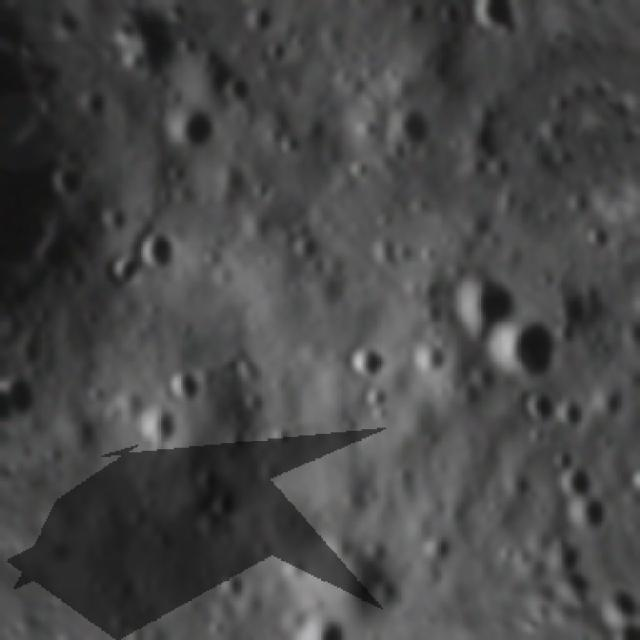crater: (438, 257, 531, 354), (476, 306, 570, 399), (374, 96, 446, 166), (159, 94, 227, 158), (457, 0, 534, 54), (132, 396, 192, 462), (40, 152, 98, 217), (400, 324, 458, 388), (130, 222, 188, 284), (95, 242, 151, 298), (547, 457, 605, 511), (339, 334, 395, 389), (547, 385, 599, 441), (1, 365, 47, 427), (281, 218, 333, 272), (68, 74, 120, 128), (565, 494, 617, 544), (200, 482, 252, 530), (162, 362, 209, 413), (352, 375, 399, 423), (218, 65, 262, 112), (207, 564, 251, 610), (576, 218, 618, 262), (298, 609, 357, 640), (240, 4, 285, 44), (259, 32, 296, 72), (374, 0, 436, 15), (623, 459, 640, 507)
